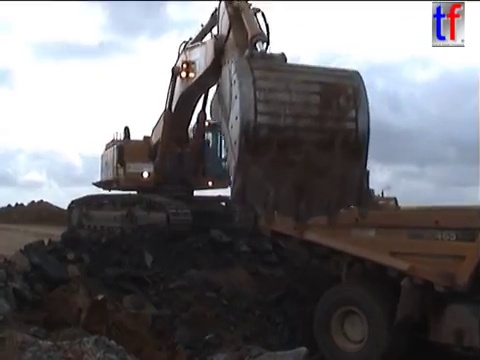excavator: (62, 1, 375, 246)
truck: (254, 201, 480, 360)
wheel loader: (318, 171, 403, 219)
